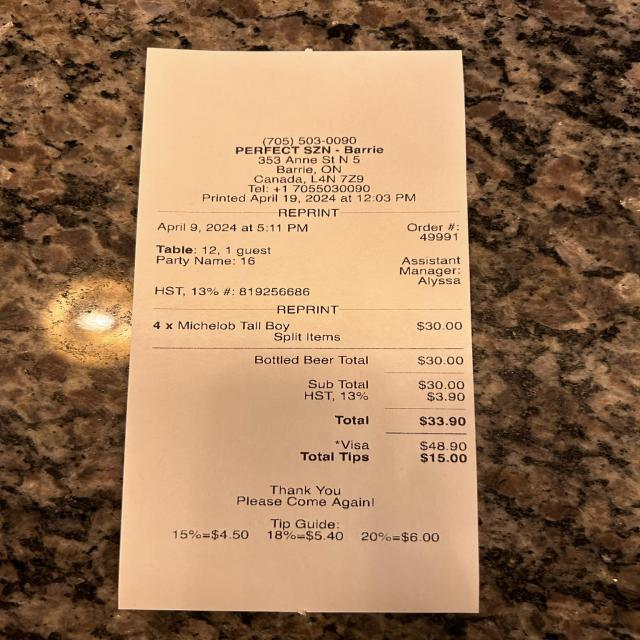item: (174, 315, 469, 335)
store_name: (228, 141, 389, 160)
total_amount: (327, 409, 471, 433)
transaction_date: (151, 216, 243, 238)
